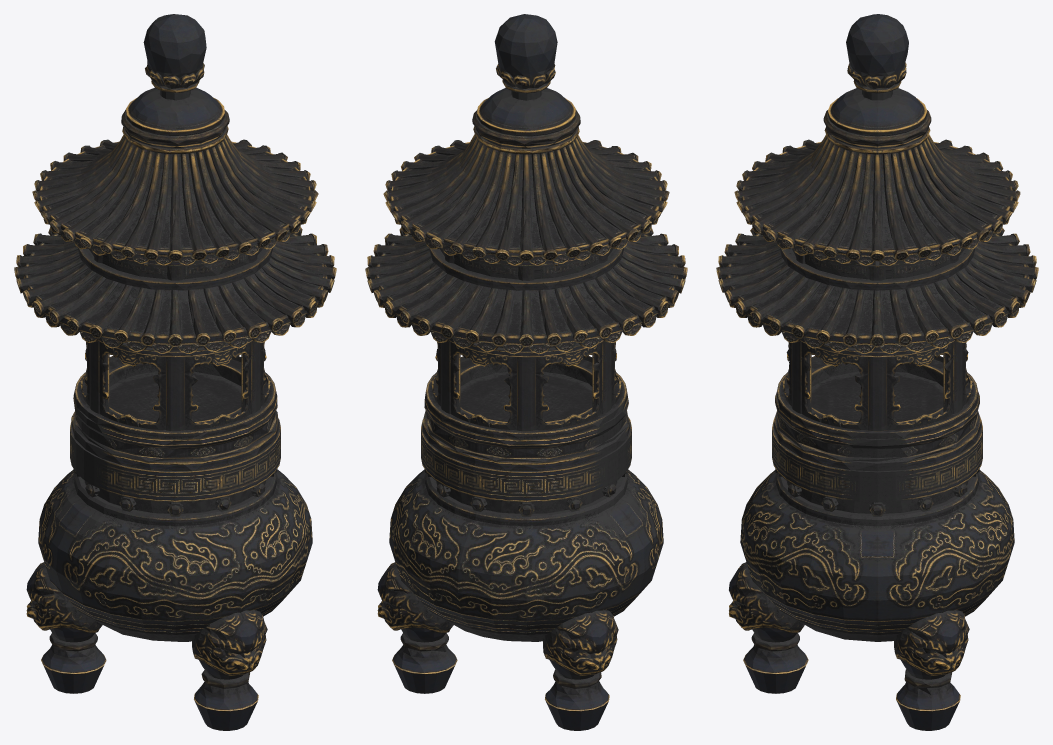
Rendered from XiangLu.fbx.
3 renders of one model, left to right at view 1: azimuth 30°, elevation 25°; view 2: azimuth 150°, elevation 25°; view 3: azimuth 270°, elevation 25°, orthographic.
Visible parts, largest first — view 1: 3D_XiangLu.mo; view 2: 3D_XiangLu.mo; view 3: 3D_XiangLu.mo.
Part boxes in pixels (box(x1,y1,x2,y2)): 3D_XiangLu.mo: box(14, 14, 336, 730); 3D_XiangLu.mo: box(365, 14, 687, 730); 3D_XiangLu.mo: box(716, 14, 1038, 730).
Size of the model in its own units: 145 by 331 by 145.
Materials: 1 (1 with a texture image).
